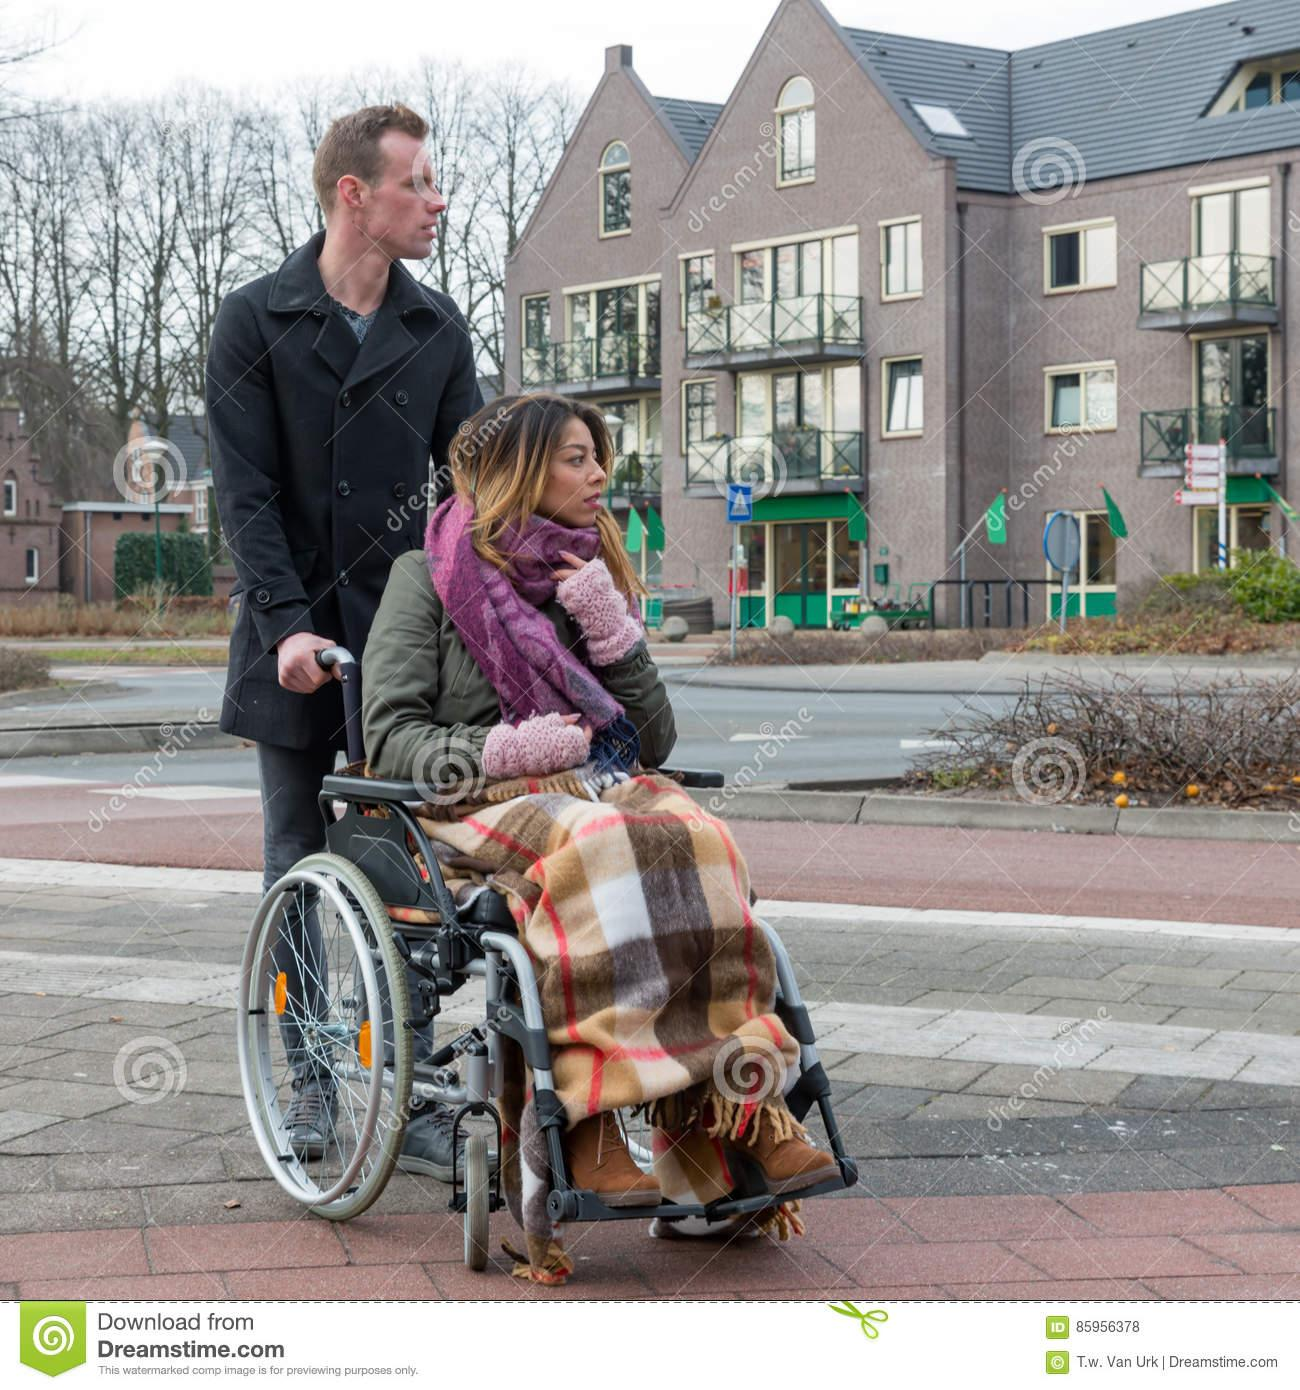push_wheelchair: (203, 104, 539, 1180)
wheelchair: (238, 393, 858, 1289)
